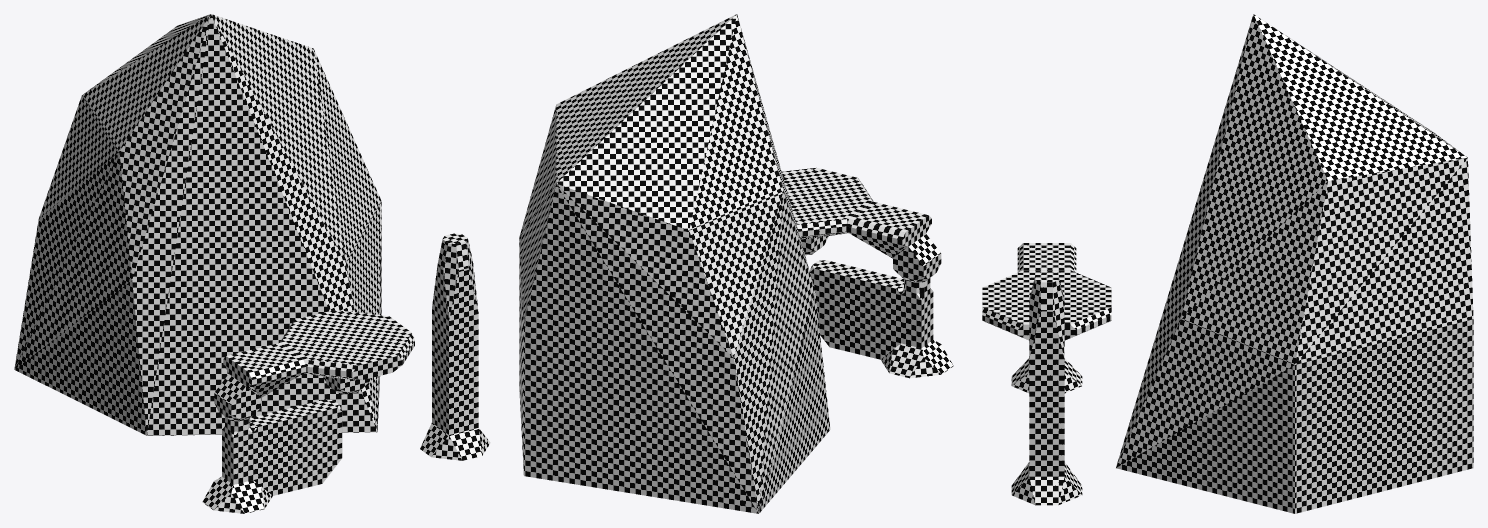
Rendered from ruins_pieces_01.dae.
3 views of the same model, side by side, from view 1: azimuth 30°, elevation 25°; view 2: azimuth 150°, elevation 25°; view 3: azimuth 270°, elevation 25° (orthographic). The views are drawn at different scales.
Visible parts, largest first — view 1: mountain_01, pillar_large, pillar_1, platform, walkway, base, base_large, pillar, core_split, core_base; view 2: mountain_01, pillar_1, platform, walkway, base, pillar, core_split; view 3: mountain_01, pillar_large, platform, base_large, walkway, base.
Boxes of the visible parts, x1,y1,x2,y2 form: mountain_01: (14,14,381,435); pillar_large: (432,233,478,434); pillar_1: (250,399,342,495); platform: (280,310,414,379); walkway: (223,343,306,397); base: (202,476,272,513); base_large: (420,423,490,460); pillar: (222,426,253,484); core_split: (214,374,260,421); core_base: (323,376,369,394); mountain_01: (519,14,830,513); pillar_1: (809,260,903,359); platform: (782,167,873,239); walkway: (846,201,931,258); base: (881,339,953,378); pillar: (901,288,933,348); core_split: (893,234,941,282); mountain_01: (1116,14,1473,513); pillar_large: (1029,272,1064,476); platform: (982,270,1111,340); base_large: (1011,462,1082,505); walkway: (1017,243,1076,272); base: (1011,358,1082,393).
Size of the model in its own units: 1193 by 1647 by 1496.
1 material, 1 textured.
